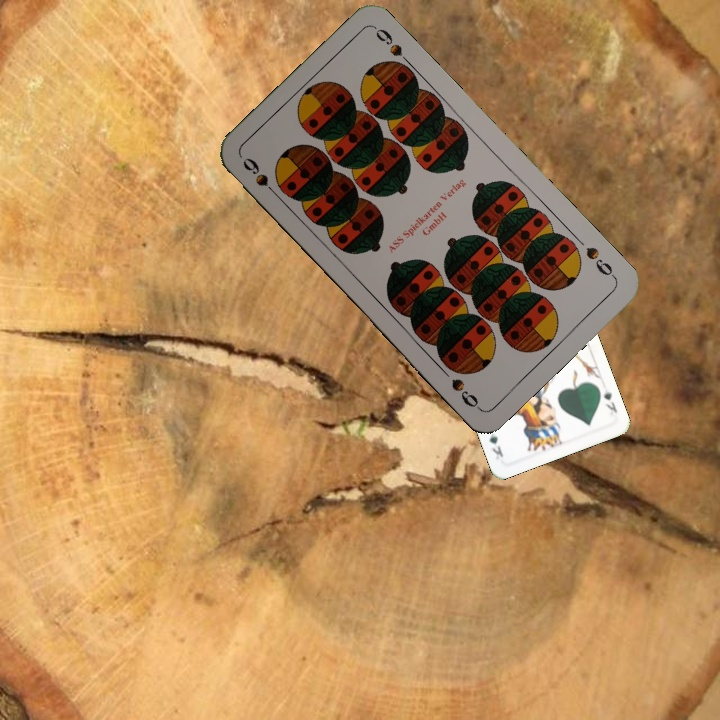GK: (599, 385, 620, 418)
S9: (238, 153, 283, 201), (581, 242, 619, 282)
